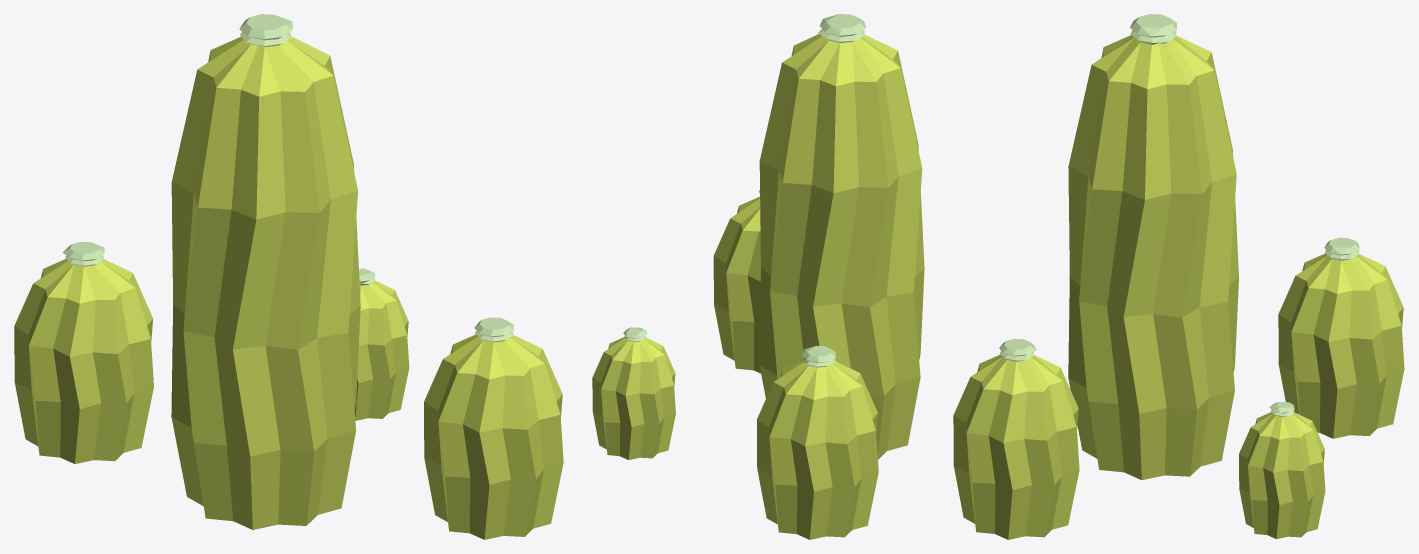
The model's file is dessert_plant_02.fbx.
3 renders of one model, left to right at view 1: azimuth 30°, elevation 25°; view 2: azimuth 150°, elevation 25°; view 3: azimuth 270°, elevation 25°, orthographic. The views are drawn at different scales.
Parts seen in each view (by area): view 1: dessert_plant_02; view 2: dessert_plant_02; view 3: dessert_plant_02.
Part boxes in pixels (x1,y1,x2,y2): dessert_plant_02: (14,14,563,539); dessert_plant_02: (592,14,924,539); dessert_plant_02: (953,14,1404,539).
Bounding box in the file's own units: 139 × 179 × 171.
